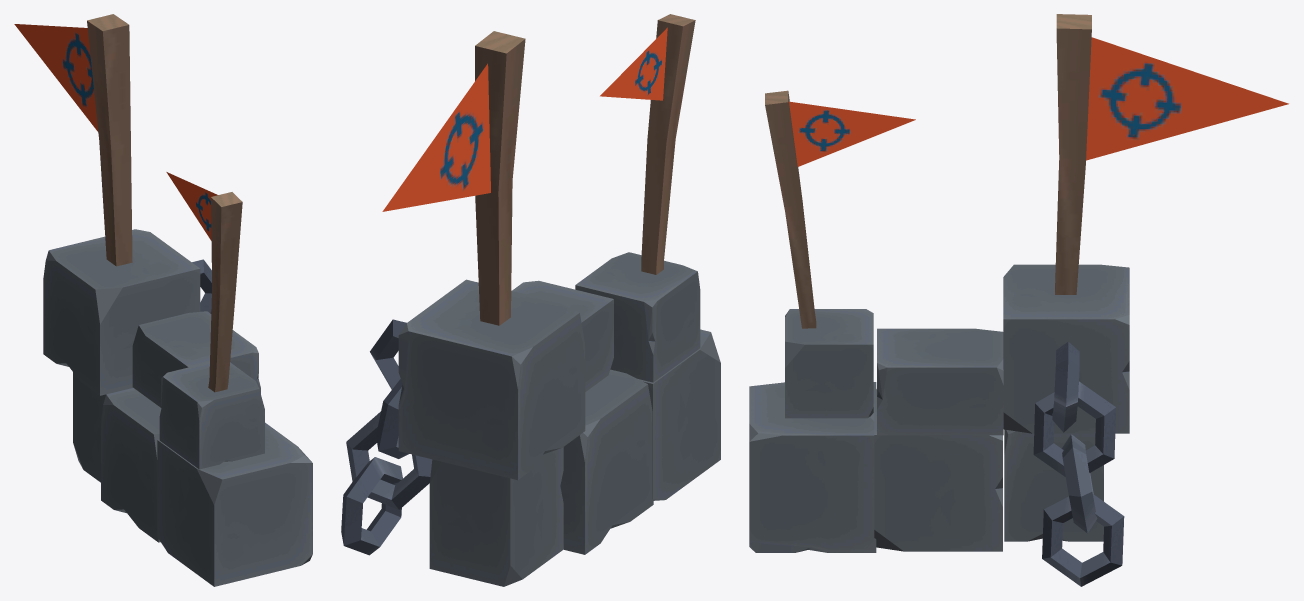
Rendered from Wall1B-003_40_14_8213.fbx.
The picture shows the model from 3 angles, left to right: view 1: azimuth 30°, elevation 25°; view 2: azimuth 150°, elevation 25°; view 3: azimuth 270°, elevation 25°; orthographic projection. The views are drawn at different scales.
Visible parts, largest first — view 1: 1B_Wall3, Wood1.002 (1) (×2), Flag1.001 (1) (×2), ChainLink (1); view 2: 1B_Wall3, Wood1.002 (1) (×2), Flag1.001 (1) (×2), ChainLink (4), ChainLink (3), ChainLink (2), ChainLink (1); view 3: 1B_Wall3, Flag1.001 (1) (×2), Wood1.002 (1) (×2), ChainLink (4), ChainLink (2), ChainLink (3), ChainLink (1).
Part boxes in pixels (bbox=[...]): 1B_Wall3: bbox=[43, 229, 312, 586]; Wood1.002 (1) (×2): bbox=[87, 14, 242, 392]; Flag1.001 (1) (×2): bbox=[14, 24, 217, 240]; ChainLink (1): bbox=[192, 259, 211, 313]; 1B_Wall3: bbox=[398, 252, 720, 586]; Wood1.002 (1) (×2): bbox=[475, 14, 695, 325]; Flag1.001 (1) (×2): bbox=[382, 27, 667, 211]; ChainLink (4): bbox=[341, 457, 402, 555]; ChainLink (3): bbox=[346, 411, 432, 509]; ChainLink (2): bbox=[376, 379, 409, 458]; ChainLink (1): bbox=[370, 319, 406, 389]; 1B_Wall3: bbox=[749, 264, 1129, 552]; Flag1.001 (1) (×2): bbox=[789, 37, 1288, 166]; Wood1.002 (1) (×2): bbox=[765, 14, 1091, 328]; ChainLink (4): bbox=[1042, 494, 1124, 586]; ChainLink (2): bbox=[1033, 381, 1115, 476]; ChainLink (3): bbox=[1061, 434, 1097, 533]; ChainLink (1): bbox=[1052, 341, 1079, 432].
Bounding box in the file's own units: 1.63 × 4.27 × 4.12.
